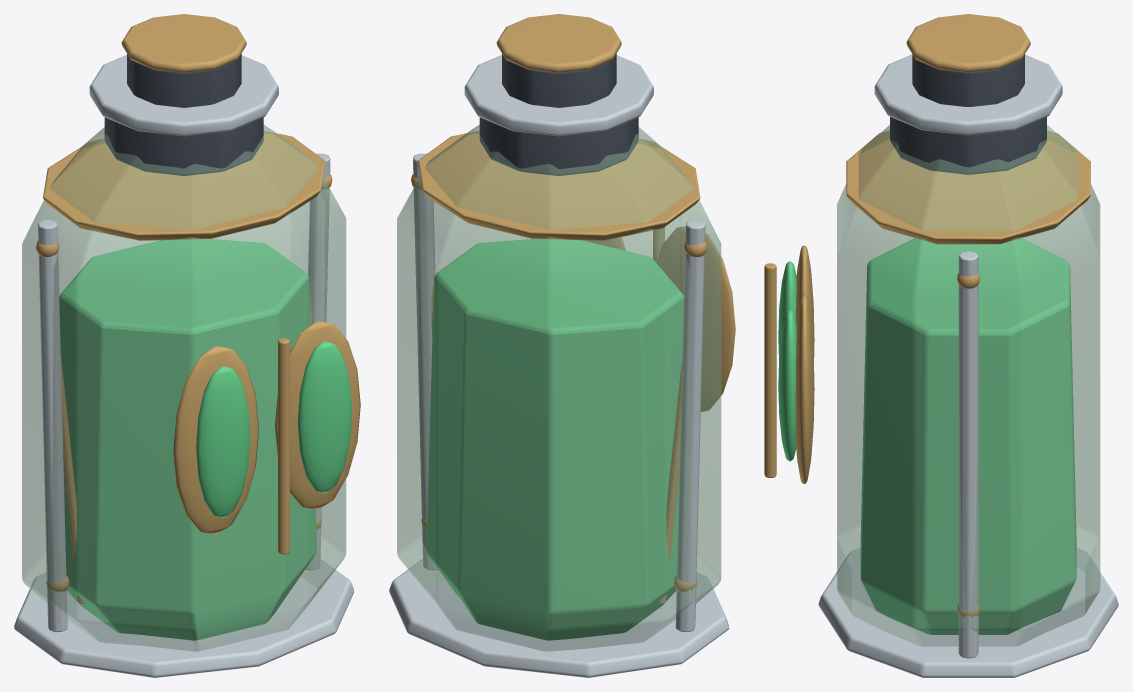
Rendered from SM_Flask_Regeneration.fbx.
The picture shows the model from 3 angles, left to right: view 1: azimuth 30°, elevation 25°; view 2: azimuth 150°, elevation 25°; view 3: azimuth 270°, elevation 25°; orthographic projection.
Parts seen in each view (by area): view 1: glass_CutVessel, liquid_ContainedEssence, gold_ShoulderRim, liquid_Meniscus, metal_BaseRing, metal_CradleRail, metal_MouthLip, liquid_LeafEnamel.001, liquid_LeafEnamel, gold_LeafVein, dark_NeckSleeve, gold_CapInset (+5 smaller); view 2: glass_CutVessel, liquid_ContainedEssence, gold_ShoulderRim, liquid_Meniscus, metal_BaseRing, metal_CradleRail, metal_MouthLip, dark_NeckSleeve, gold_CapInset, gold_LeafVein, metal_CradleRail.001, dark_SealedStopper (+1 smaller); view 3: glass_CutVessel, liquid_ContainedEssence, gold_ShoulderRim, metal_BaseRing, liquid_Meniscus, metal_CradleRail.001, metal_MouthLip, dark_NeckSleeve, gold_CapInset, dark_SealedStopper, gold_LeafVein.001, gold_Stem (+3 smaller).
Part boxes in pixels (x1=…): glass_CutVessel: x1=22, y1=125, x2=346, y2=651; liquid_ContainedEssence: x1=59, y1=275, x2=316, y2=640; gold_ShoulderRim: x1=43, y1=131, x2=325, y2=240; liquid_Meniscus: x1=60, y1=239, x2=307, y2=332; metal_BaseRing: x1=14, y1=559, x2=353, y2=677; metal_CradleRail: x1=38, y1=220, x2=67, y2=632; metal_MouthLip: x1=89, y1=55, x2=278, y2=136; liquid_LeafEnamel.001: x1=297, y1=341, x2=352, y2=493; liquid_LeafEnamel: x1=196, y1=366, x2=250, y2=518; gold_LeafVein: x1=173, y1=346, x2=258, y2=534; dark_NeckSleeve: x1=104, y1=117, x2=263, y2=175; gold_CapInset: x1=121, y1=14, x2=246, y2=72; glass_CutVessel: x1=397, y1=125, x2=721, y2=651; liquid_ContainedEssence: x1=426, y1=276, x2=683, y2=640; gold_ShoulderRim: x1=418, y1=131, x2=700, y2=240; liquid_Meniscus: x1=435, y1=239, x2=682, y2=332; metal_BaseRing: x1=389, y1=559, x2=729, y2=677; metal_CradleRail: x1=675, y1=220, x2=705, y2=632; metal_MouthLip: x1=464, y1=55, x2=653, y2=136; dark_NeckSleeve: x1=479, y1=117, x2=638, y2=175; gold_CapInset: x1=496, y1=14, x2=621, y2=72; gold_LeafVein: x1=657, y1=226, x2=735, y2=411; metal_CradleRail.001: x1=413, y1=153, x2=437, y2=569; dark_SealedStopper: x1=502, y1=53, x2=616, y2=107; glass_CutVessel: x1=837, y1=125, x2=1100, y2=646; liquid_ContainedEssence: x1=860, y1=263, x2=1076, y2=634; gold_ShoulderRim: x1=846, y1=130, x2=1090, y2=244; metal_BaseRing: x1=818, y1=548, x2=1118, y2=677; liquid_Meniscus: x1=868, y1=238, x2=1068, y2=333; metal_CradleRail.001: x1=958, y1=251, x2=978, y2=658; metal_MouthLip: x1=874, y1=54, x2=1062, y2=135; dark_NeckSleeve: x1=890, y1=117, x2=1046, y2=174; gold_CapInset: x1=906, y1=14, x2=1030, y2=72; dark_SealedStopper: x1=912, y1=54, x2=1024, y2=106; gold_LeafVein.001: x1=795, y1=295, x2=814, y2=483; gold_Stem: x1=764, y1=263, x2=776, y2=477.
Bounding box in the file's own units: 26.05 × 49.5 × 27.36.
